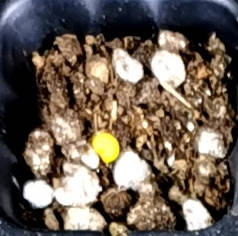chilli seed: (92, 132, 120, 163)
